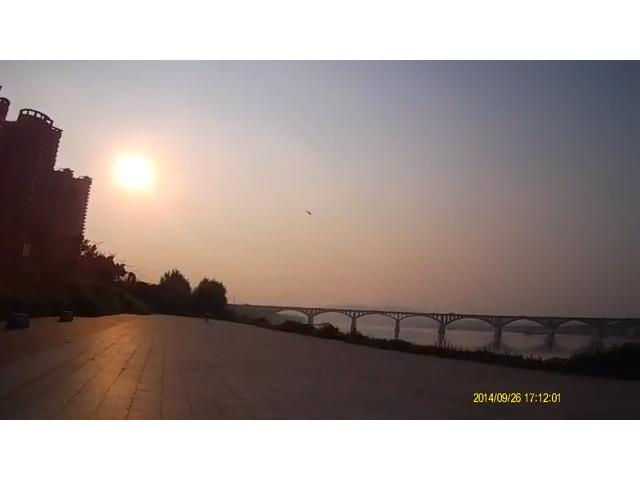Anti-Drone: (293, 206, 317, 222)
